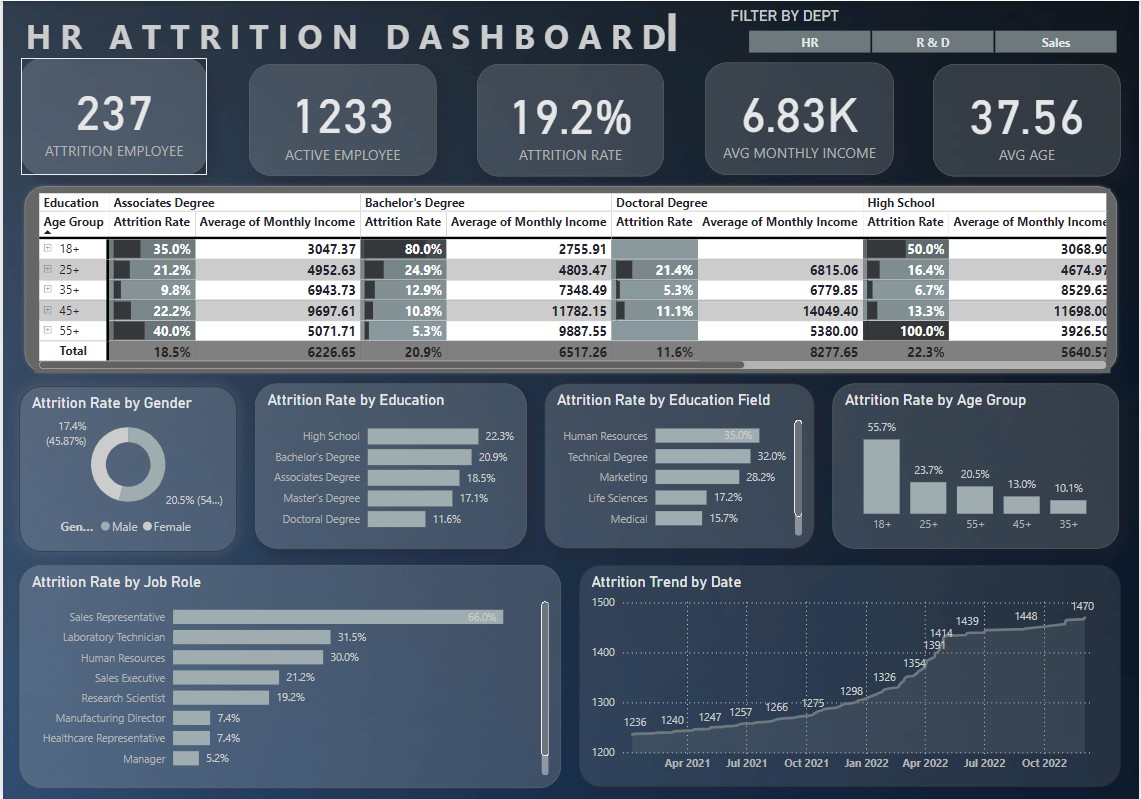

This screenshot's page, from the dashboard's own definition file:
{"tool":"powerbi","page":{"name":"Page 1","canvas":[1280,900],"ordinal":0},"visuals":[{"type":"slicer","title":"FILTER BY DEPT","fields":{"Values":["Attrition.Department"]},"box":[814,6,464,58],"z":0},{"type":"card","fields":{"Values":["Sum(Attrition.Employee Count)"]},"box":[20.3,64.4,209.5,131.8],"z":1000},{"type":"card","fields":{"Values":["Sum(Attrition.Employee Count)"]},"box":[276.5,70.6,211.2,125.9],"z":2000},{"type":"card","fields":{"Values":["Attrition.Attrition Rate"]},"box":[533.7,70.7,210.3,126.4],"z":3000},{"type":"card","fields":{"Values":["Avg(Attrition.Monthly Income)"]},"box":[790.7,69.7,212.9,126.7],"z":4000},{"type":"card","fields":{"Values":["Avg(Attrition.Age)"]},"box":[1046.8,70.7,211.6,126.4],"z":5000},{"type":"donutChart","fields":{"Y":["Attrition.Attrition Rate"],"Category":["Attrition.Gender"]},"box":[18.4,434.1,244.9,185.7],"z":6000},{"type":"clusteredBarChart","fields":{"Category":["Attrition.Education Field"],"Y":["Attrition.Attrition Rate"]},"box":[610.2,430.6,304.1,185.7],"z":7000},{"type":"clusteredBarChart","fields":{"Category":["Attrition.Education"],"Y":["Attrition.Attrition Rate"]},"box":[283.7,430.6,306.1,185.7],"z":8000},{"type":"clusteredColumnChart","fields":{"Y":["Attrition.Attrition Rate"],"Category":["Attrition.Age Group"]},"box":[934.7,430.6,322.4,185.7],"z":9000},{"type":"clusteredBarChart","fields":{"Category":["Attrition.Job Role"],"Y":["Attrition.Attrition Rate"]},"box":[18.4,634.7,610.2,251],"z":10000},{"type":"areaChart","title":"Attrition Trend by Date","fields":{"Category":["Attrition.Attrition Date"],"Y":["Attrition.Employee Count running total in Attrition Date"]},"box":[648.8,635.3,610,250.1],"z":11000},{"type":"textbox","box":[20,8,742,56],"z":12000},{"type":"shape","box":[20.4,204.1,1238.8,218.4],"z":12500},{"type":"pivotTable","fields":{"Rows":["Attrition.Age Group","Attrition.Gender"],"Values":["Attrition.Attrition Rate","Avg(Attrition.Monthly Income)"],"Columns":["Attrition.Education"]},"box":[36,211.1,1212,208],"z":13000}]}

Visuals, with their boxes in screenshot pixels (x1, y1, x2, y2), scaled from the page's 1280x900 canvas onto the 1141x799 screenshot:
"FILTER BY DEPT" slicer: <box>726,5,1139,57</box>
card - Sum(Attrition.Employee Count): <box>18,57,205,174</box>
card - Sum(Attrition.Employee Count): <box>246,63,435,174</box>
card - Attrition.Attrition Rate: <box>476,63,663,175</box>
card - Avg(Attrition.Monthly Income): <box>705,62,895,174</box>
card - Avg(Attrition.Age): <box>933,63,1122,175</box>
donutChart - Attrition.Attrition Rate x Attrition.Gender: <box>16,385,235,550</box>
clusteredBarChart - Attrition.Education Field x Attrition.Attrition Rate: <box>544,382,815,547</box>
clusteredBarChart - Attrition.Education x Attrition.Attrition Rate: <box>253,382,526,547</box>
clusteredColumnChart - Attrition.Attrition Rate x Attrition.Age Group: <box>833,382,1121,547</box>
clusteredBarChart - Attrition.Job Role x Attrition.Attrition Rate: <box>16,563,560,786</box>
"Attrition Trend by Date" areaChart: <box>578,564,1122,786</box>
textbox: <box>18,7,679,57</box>
shape: <box>18,181,1122,375</box>
pivotTable - Attrition.Age Group x Attrition.Gender: <box>32,187,1112,372</box>
